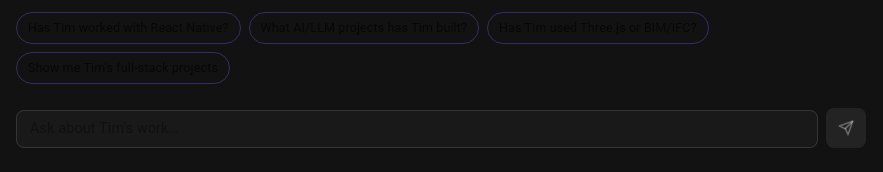
Scenario: ChatClient › hides suggested prompts after the first message is sent
This screenshot has width=883, height=172.
Click the button "Has Tim worked with React Native?" at {"x": 128, "y": 28}, box [16,12,240,44]
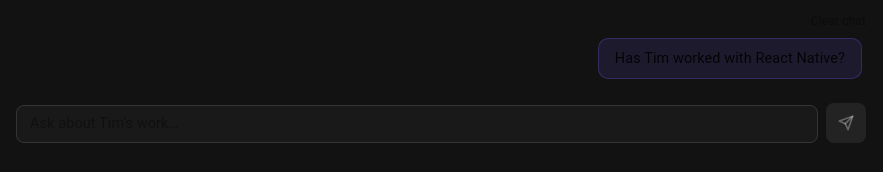
Now the button "What AI/LLM projects has Tim built?" is gone
